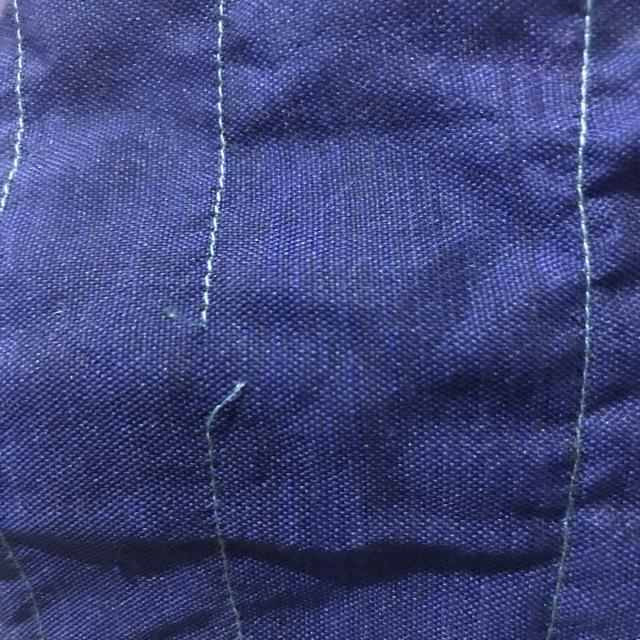broken: (163, 296, 272, 438)
good: (196, 154, 247, 267), (194, 23, 240, 119)
